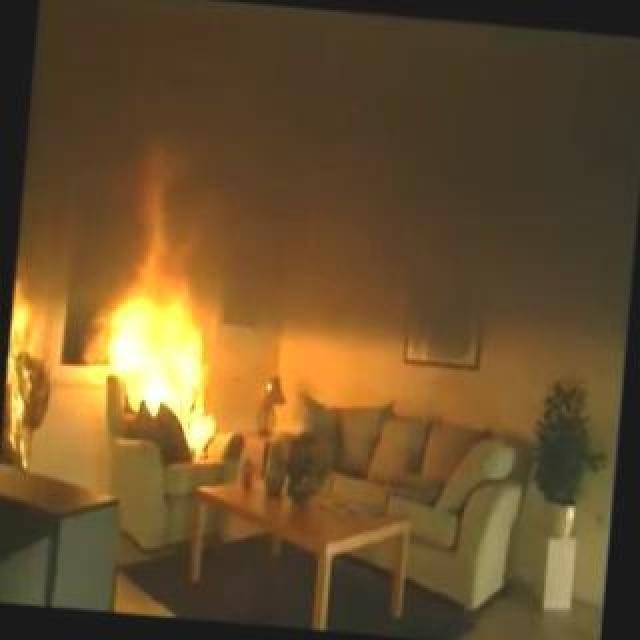Fire: (99, 290, 219, 458)
